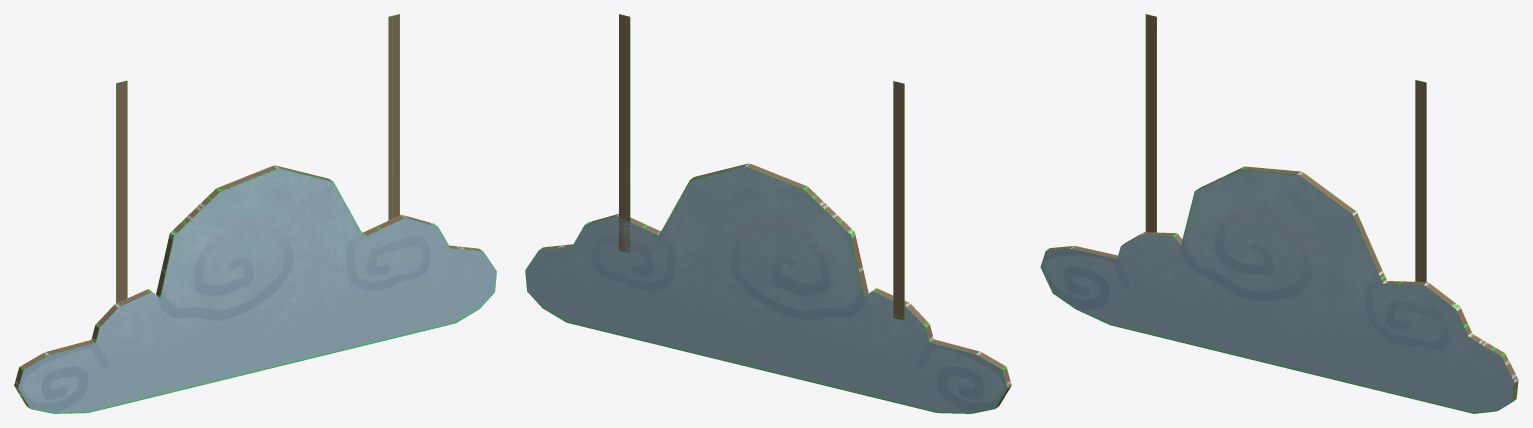
File: cloud.FBX
3 renders of one model, left to right at view 1: azimuth 30°, elevation 25°; view 2: azimuth 150°, elevation 25°; view 3: azimuth 330°, elevation 25°, orthographic.
Visible parts, largest first — view 1: Line005; view 2: Line005; view 3: Line005.
Boxes of the visible parts, x1,y1,x2,y2 form: Line005: (14,14,496,413); Line005: (525,14,1011,413); Line005: (1040,14,1518,413).
Bounding box in the file's own units: 48.96 × 31.18 × 0.7329.
